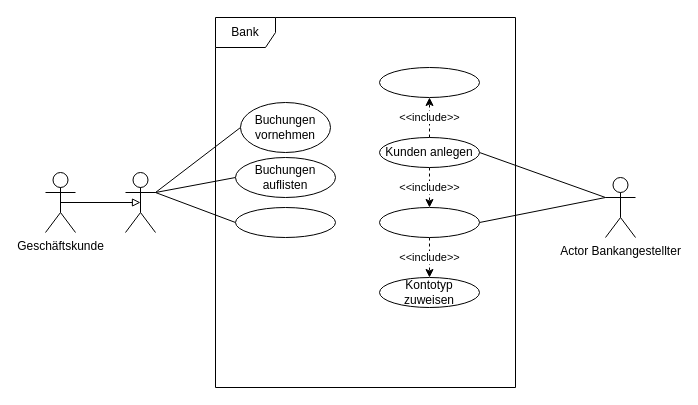
Some shapes in this 698 by 405 pixel diagram are drawn without their labels. The shapes that lost their labels are listed below. From the top down, each one's centre as x and y in pixels, then its label:
At point (429, 82): "Kundentyp zuweisen".
At point (140, 202): "Privatkunde".
At point (285, 222): "Kontoauszug anfordern".
At point (429, 222): "Konten anlegen".
